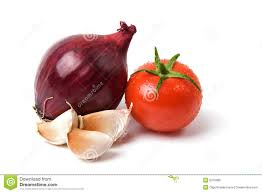onion: (35, 25, 133, 117)
tomato: (127, 60, 203, 135)
